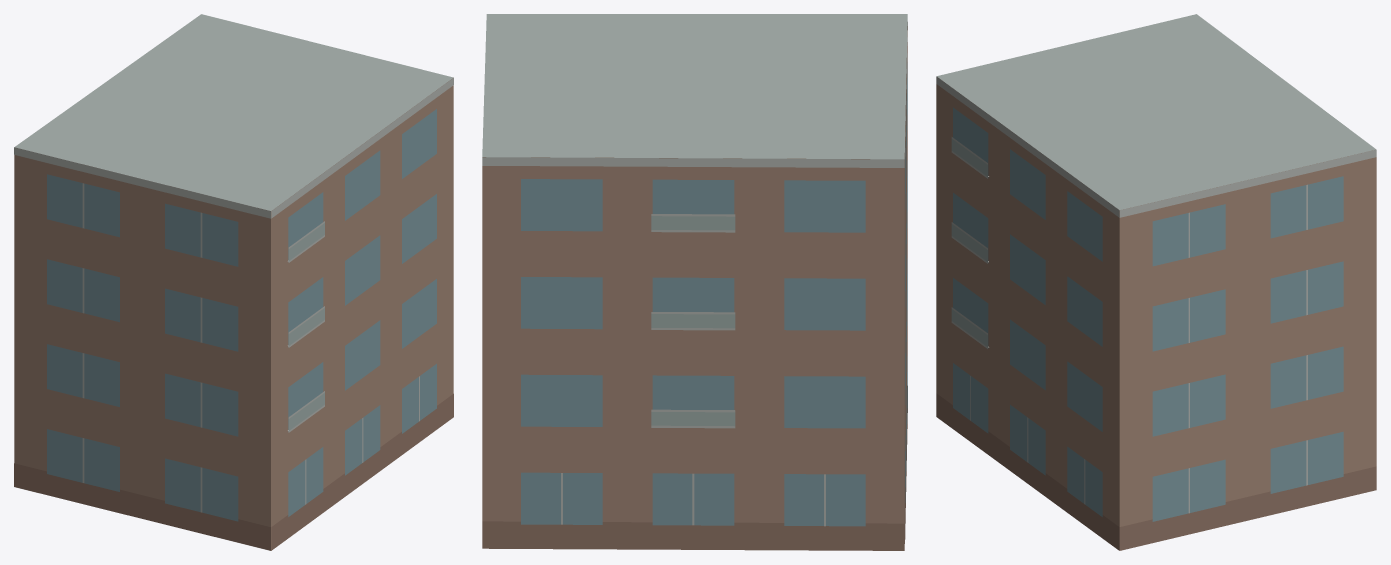
Rendered from survey-upis-32695314.glb.
The picture shows the model from 3 angles, left to right: view 1: azimuth 30°, elevation 25°; view 2: azimuth 150°, elevation 25°; view 3: azimuth 270°, elevation 25°; orthographic projection. The views are drawn at different scales.
Parts seen in each view (by area): view 1: survey-upis-32695314.tmp; view 2: survey-upis-32695314.tmp; view 3: survey-upis-32695314.tmp.
Part boxes in pixels (x1,y1,x2,y2): survey-upis-32695314.tmp: (14,14,453,550); survey-upis-32695314.tmp: (482,14,907,550); survey-upis-32695314.tmp: (936,14,1376,550).
Bounding box in the file's own units: 13.48 × 10.9 × 12.77.
